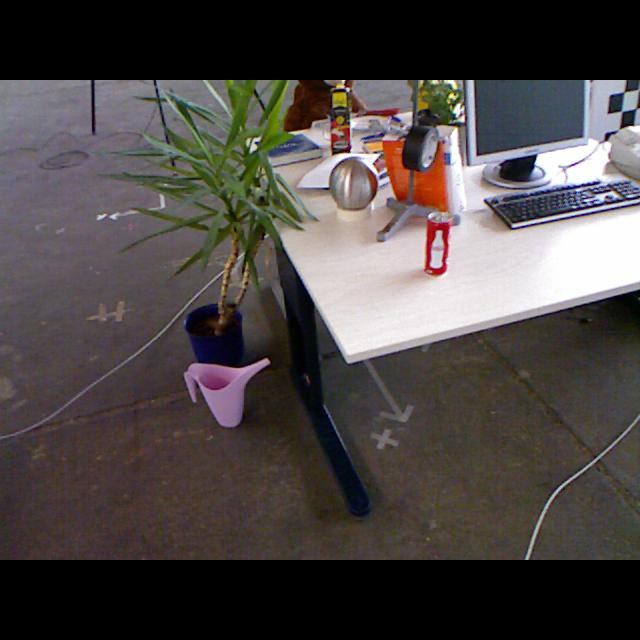Computer-Keyboard: (483, 173, 637, 229)
Flat-Panel-Monitor: (466, 81, 590, 187)
